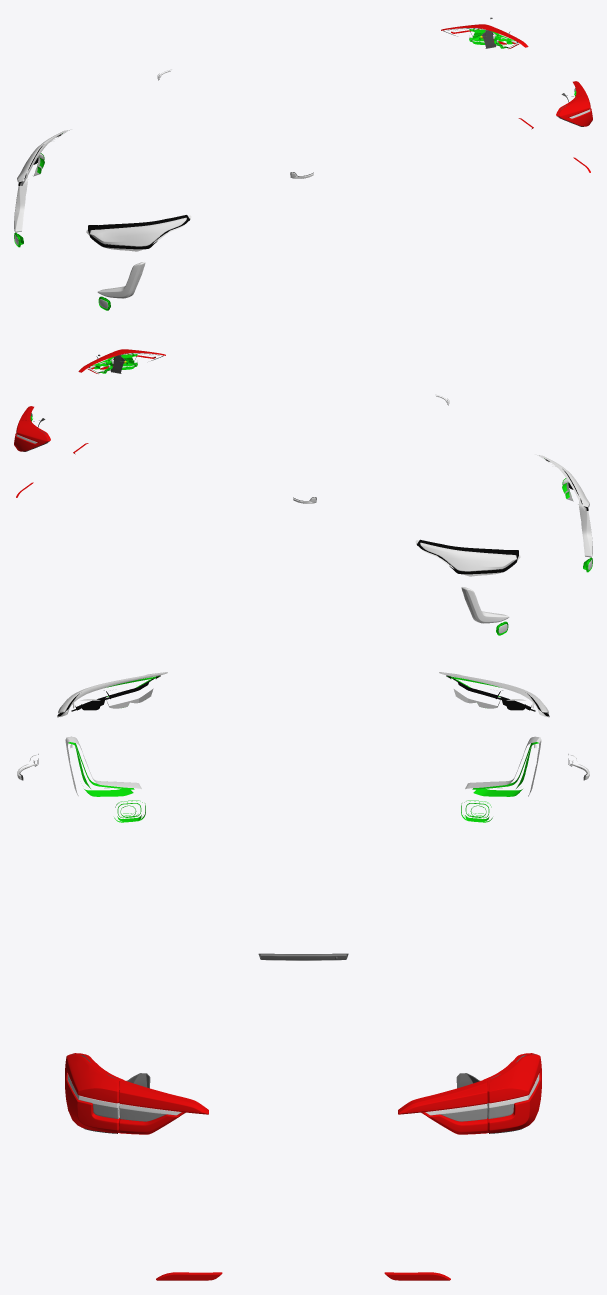
Rendered from MAGNITE_TURBO_CVT_XV_PRE_EX_LIGHTS_MESH.glb.
The picture shows the model from 3 angles, top to bottom: view 1: azimuth 30°, elevation 25°; view 2: azimuth 150°, elevation 25°; view 3: azimuth 270°, elevation 25°; orthographic projection. The views are drawn at different scales.
Parts seen in each view (by area): view 1: MAGNITE_TURBO_CVT_XV_PRE_EX_LIGHTS_MESH; view 2: MAGNITE_TURBO_CVT_XV_PRE_EX_LIGHTS_MESH; view 3: MAGNITE_TURBO_CVT_XV_PRE_EX_LIGHTS_MESH.
Part boxes in pixels (<box>): MAGNITE_TURBO_CVT_XV_PRE_EX_LIGHTS_MESH: <box>14,17,592,310</box>; MAGNITE_TURBO_CVT_XV_PRE_EX_LIGHTS_MESH: <box>14,349,592,635</box>; MAGNITE_TURBO_CVT_XV_PRE_EX_LIGHTS_MESH: <box>17,672,589,1280</box>.
Bounding box in the file's own units: 3.85 × 1.09 × 1.91.
